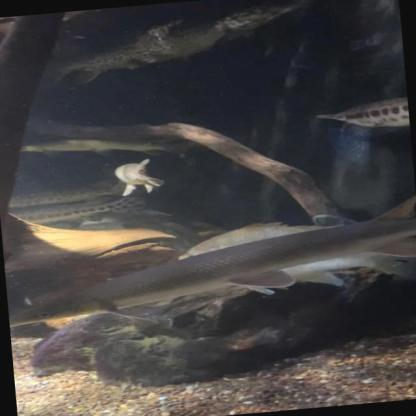fish: (2, 192, 416, 333), (312, 97, 410, 135), (112, 157, 166, 197)
